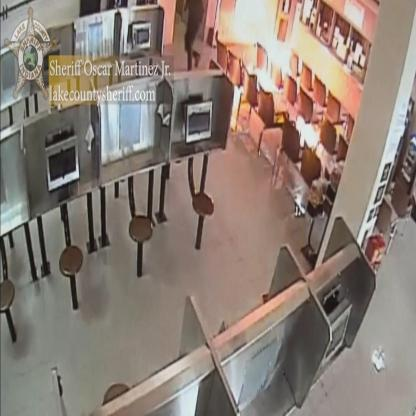fire: (233, 0, 292, 105), (295, 115, 320, 149)
